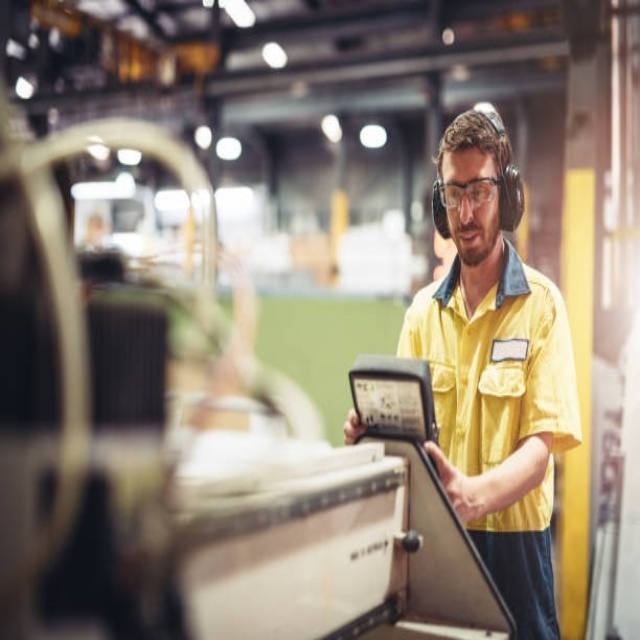Gafas: (439, 178, 502, 210)
Sin_mascara: (454, 223, 483, 256)
